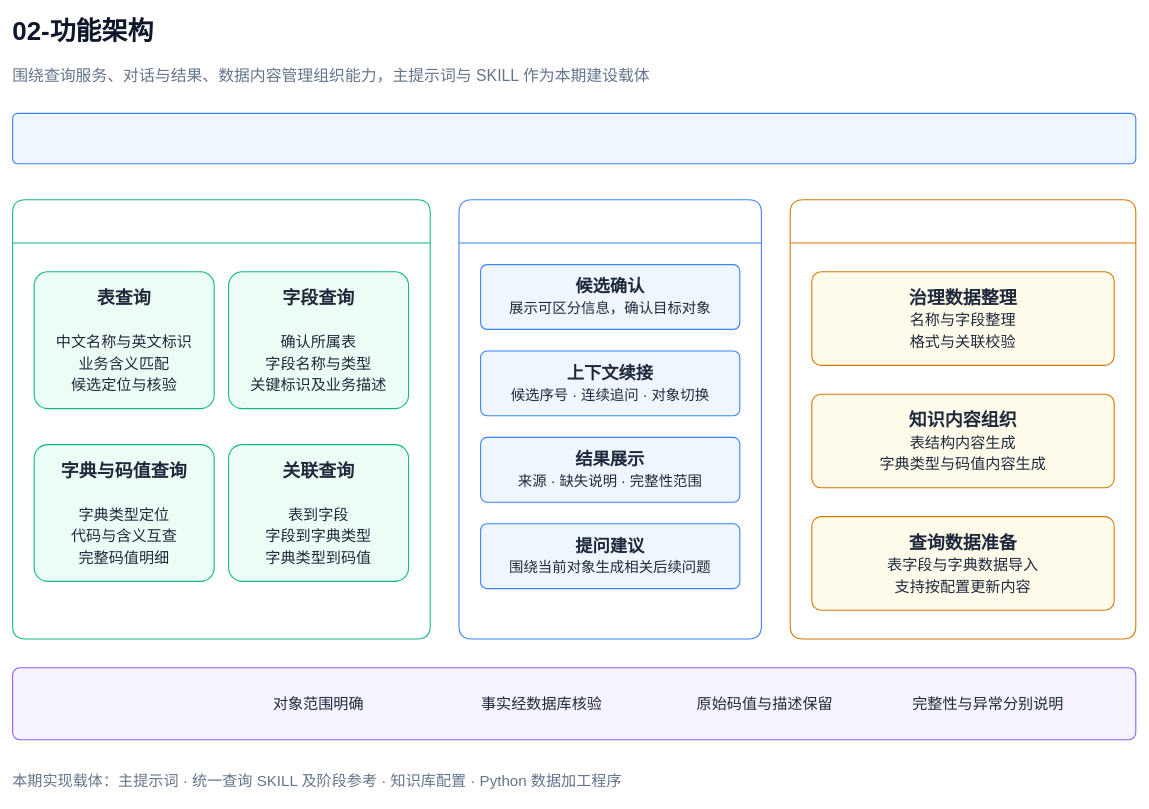
The diagram is 1149 pixels wide and 809 high, and some of its shapes have lost their labels. Each missing label, with the box of its shape:
共享查询规则: (12, 667, 1136, 740)
对话与结果: (458, 199, 762, 639)
数据内容管理: (789, 199, 1136, 639)
数据资源智能查询入口: (12, 113, 1136, 164)
查询服务: (12, 199, 430, 639)
